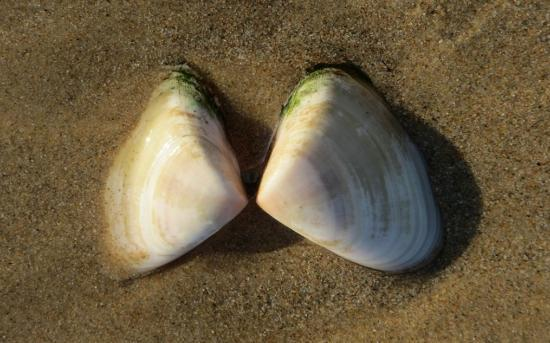tuatua: (252, 63, 442, 277), (92, 63, 248, 278)
